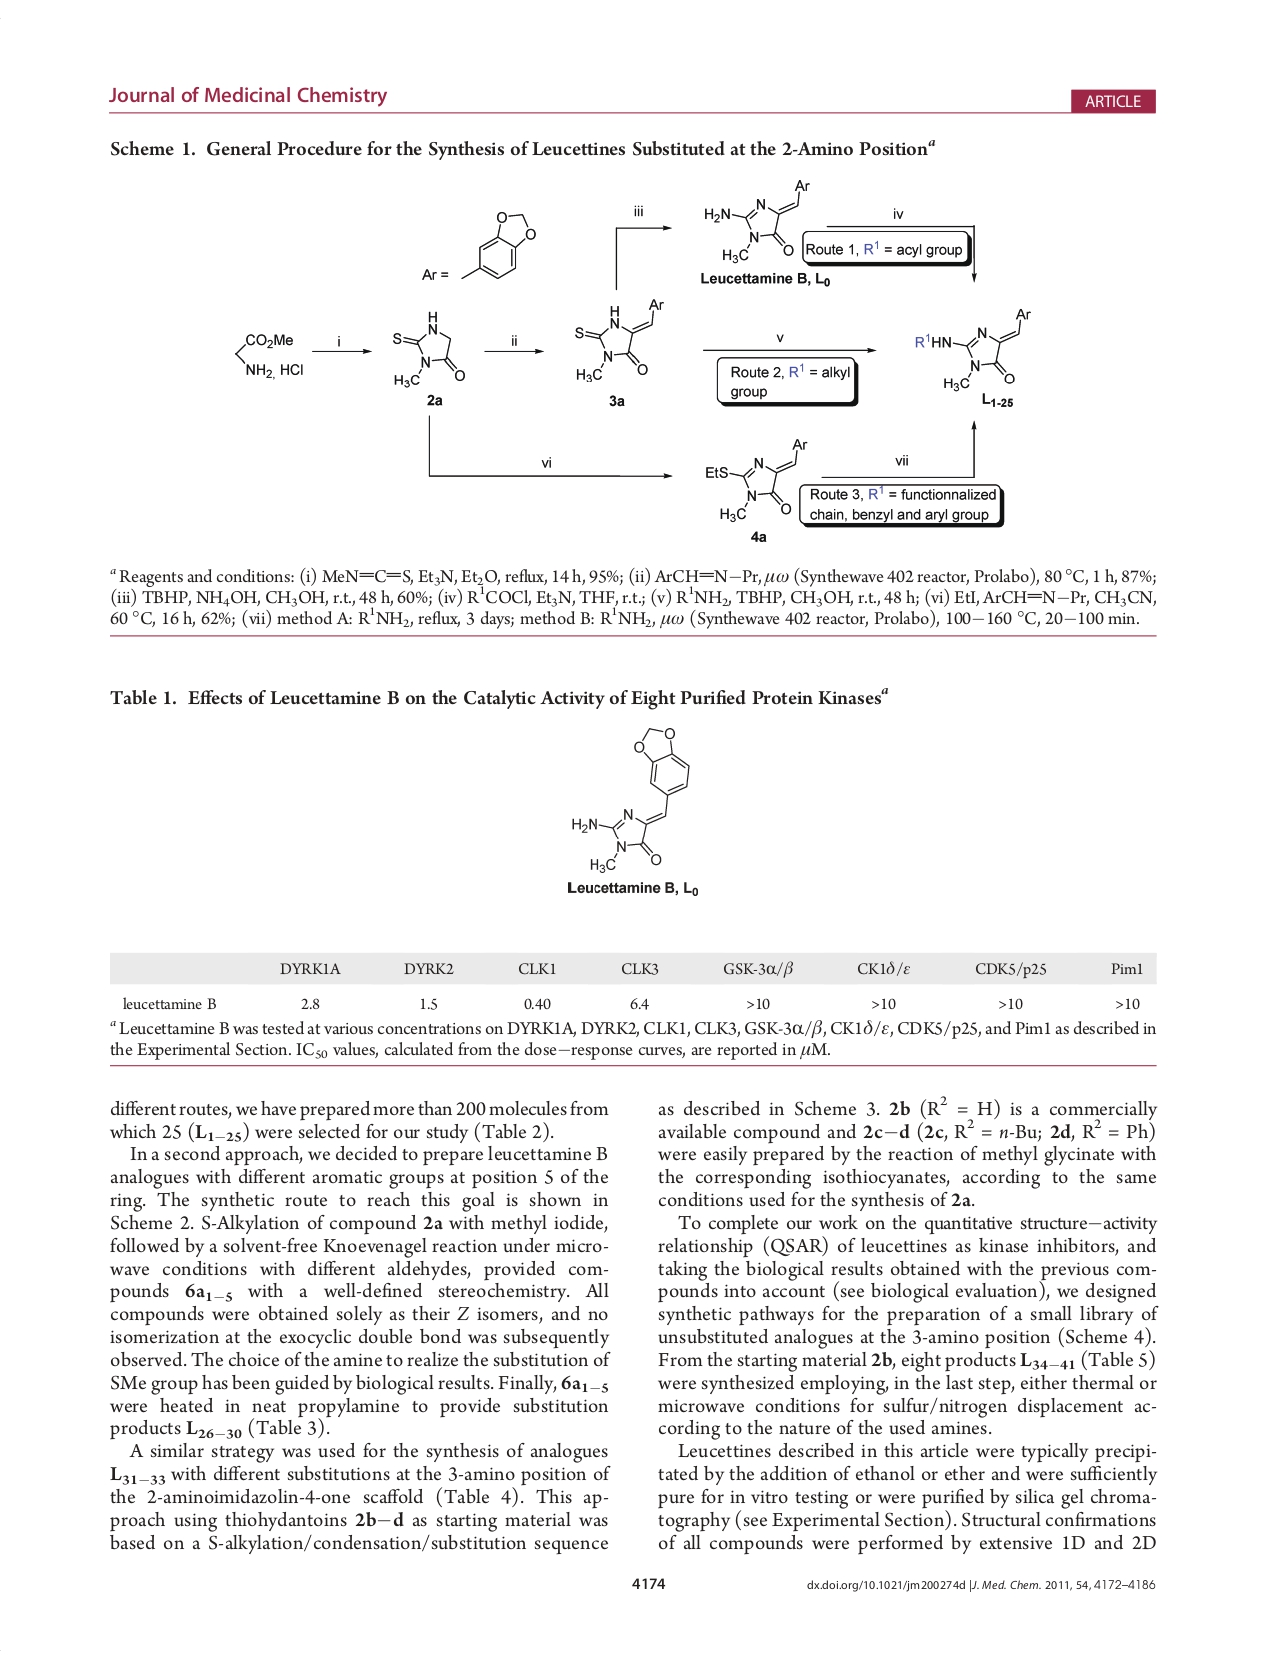exist_molecular: (568, 719, 693, 874), (911, 305, 1035, 394), (702, 178, 811, 265), (703, 436, 809, 523), (570, 294, 665, 384), (386, 307, 469, 394), (456, 207, 535, 285), (227, 326, 306, 380)
